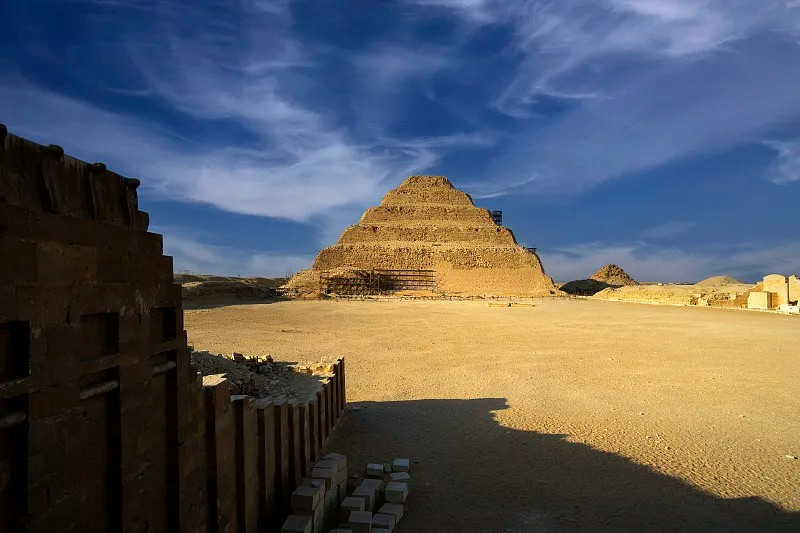Pyramid: (285, 177, 563, 298)
